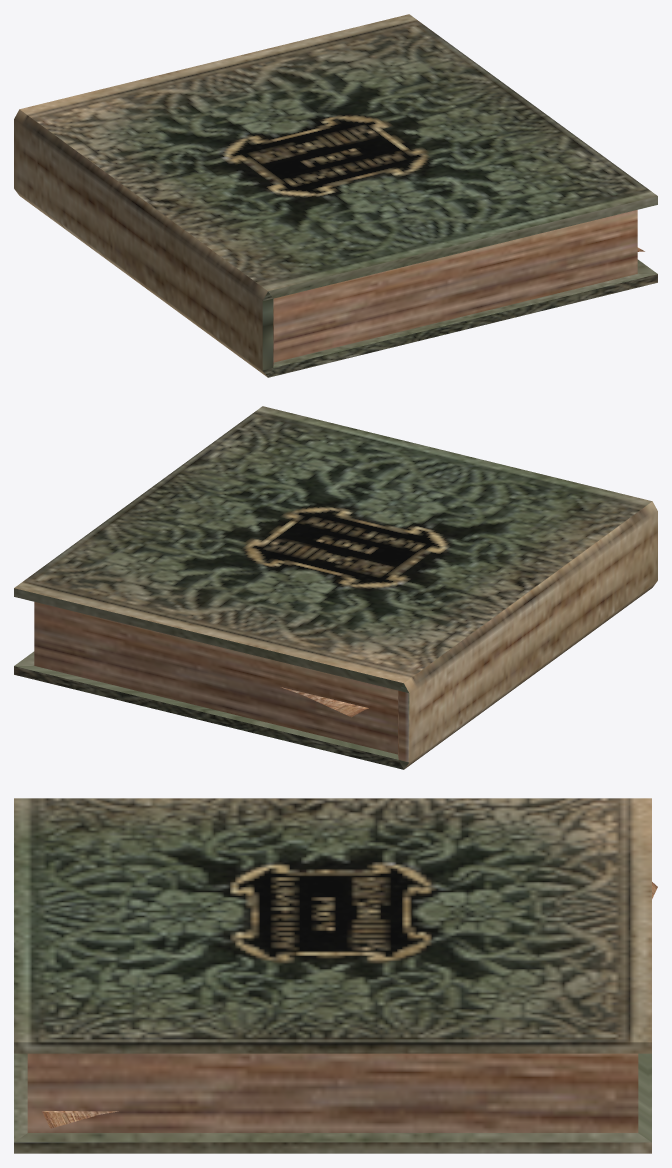
The model's file is Book04.fbx.
The picture shows the model from 3 angles, top to bottom: view 1: azimuth 30°, elevation 25°; view 2: azimuth 150°, elevation 25°; view 3: azimuth 270°, elevation 25°; orthographic projection. The views are drawn at different scales.
Parts seen in each view (by area): view 1: pCube365.003; view 2: pCube365.003; view 3: pCube365.003.
Part boxes in pixels (x1=…): pCube365.003: x1=14, y1=14, x2=657, y2=377; pCube365.003: x1=14, y1=406, x2=657, y2=769; pCube365.003: x1=14, y1=798, x2=657, y2=1153.
Size of the model in its own units: 55.64 by 11.59 by 60.92.
